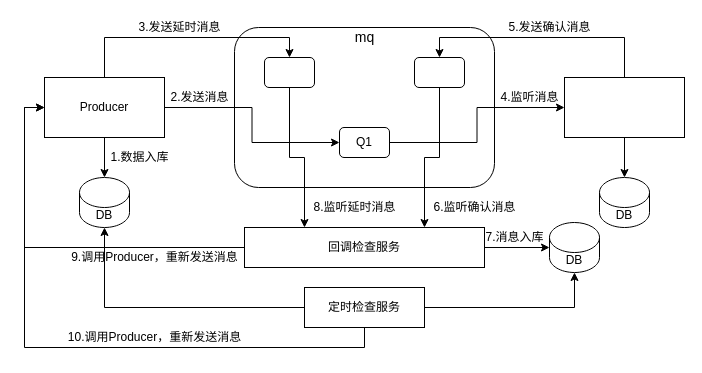
Image size: 702x373. Some labels were removed from this diagram. Each missing label, with the centre of its shape:
Consumer: the point at 624,107
Q2: the point at 439,72
Q3: the point at 289,72
